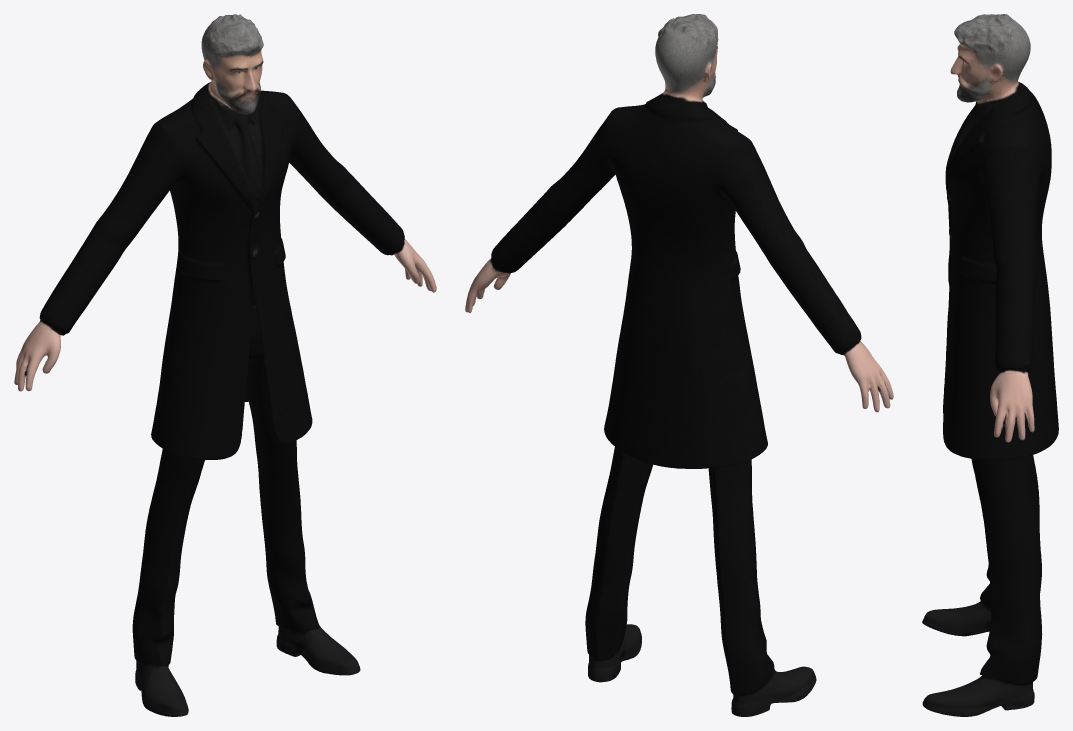
File: pastor_backup.glb
3 views of the same model, side by side, from view 1: azimuth 30°, elevation 25°; view 2: azimuth 150°, elevation 25°; view 3: azimuth 270°, elevation 25° (orthographic). The views are drawn at different scales.
Size of the model in its own units: 1.25 by 1.9 by 0.3602.
Materials: 1 (1 with a texture image).
